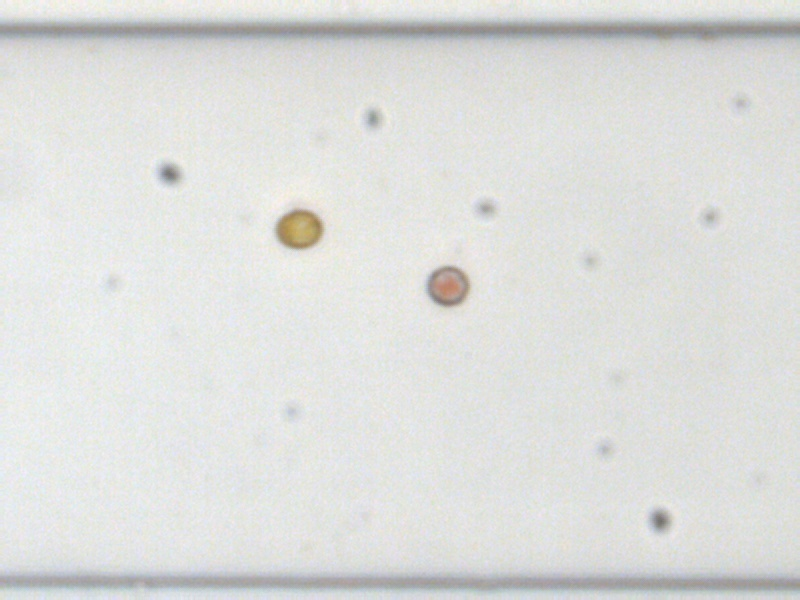Effrenium: (270, 204, 326, 252)
Porphyridium: (422, 262, 471, 307)
